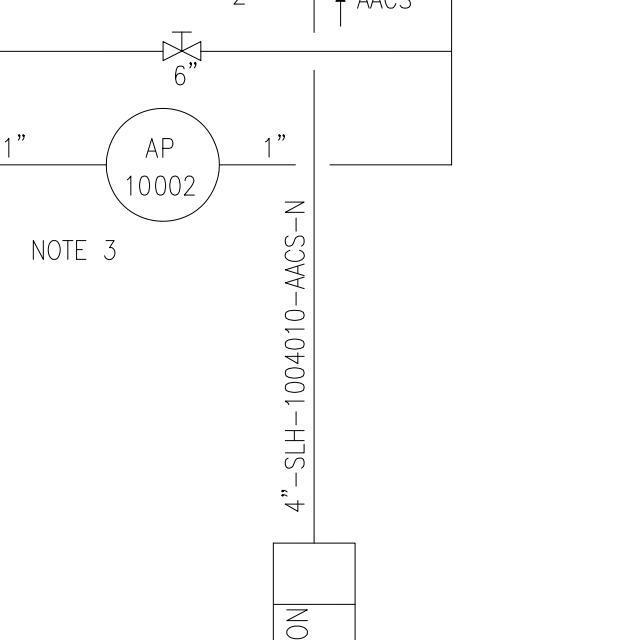HV: (161, 23, 205, 63)
